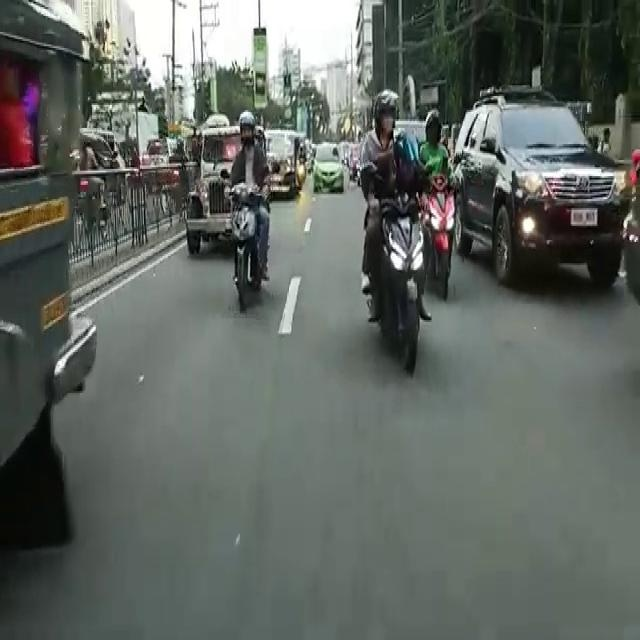car: (478, 91, 610, 282), (311, 140, 342, 190)
jeepney: (0, 18, 84, 534), (183, 125, 239, 273), (272, 132, 304, 198)
motorcycle: (356, 95, 416, 364), (426, 111, 460, 296), (237, 111, 268, 311)
